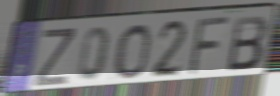0: (77, 24, 112, 85)
2: (150, 19, 191, 79)
B: (226, 14, 270, 73)
F: (186, 14, 234, 78)
O: (113, 22, 153, 81)
Z: (32, 27, 77, 89)
